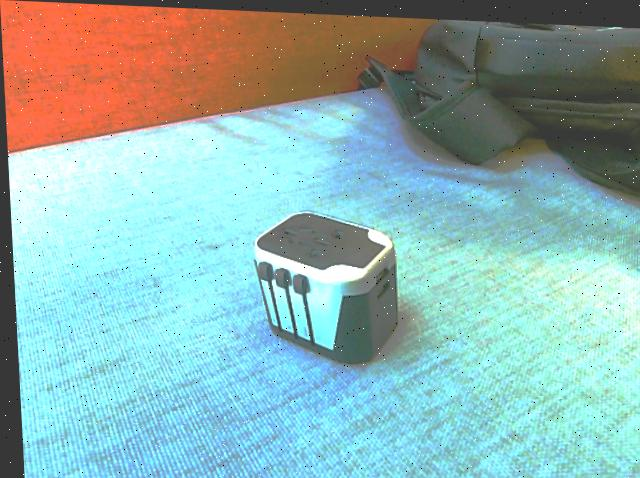adapter: (248, 206, 397, 363)
